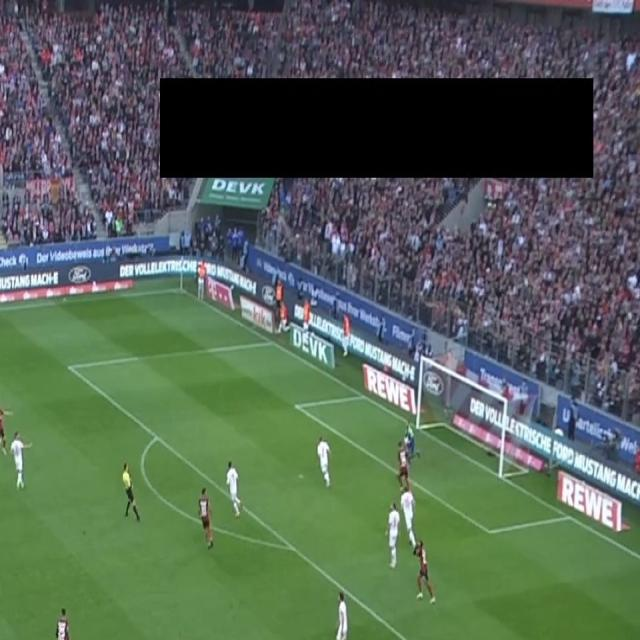ball: (404, 435, 409, 445)
